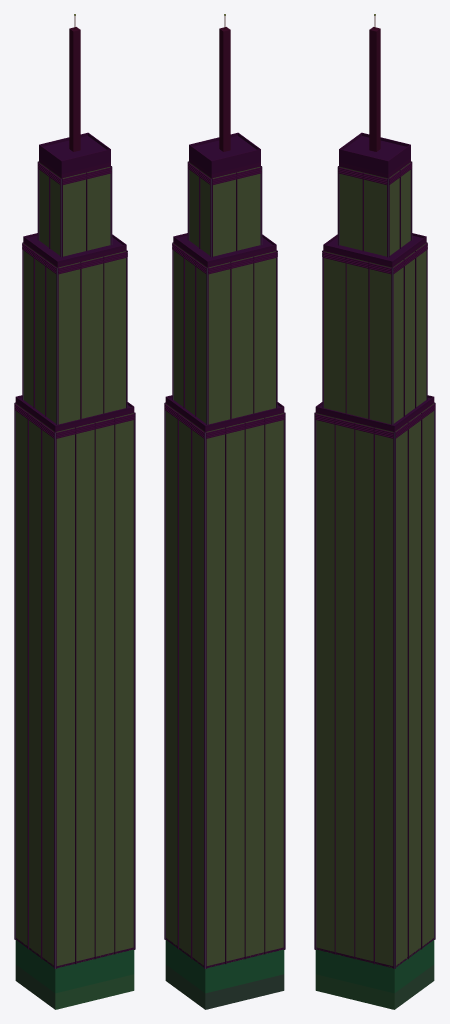
File: tower_i.glb
The picture shows the model from 3 angles, left to right: view 1: azimuth 30°, elevation 25°; view 2: azimuth 210°, elevation 25°; view 3: azimuth 330°, elevation 25°; orthographic projection.
Parts seen in each view (by area): view 1: tower_i; view 2: tower_i; view 3: tower_i.
Part boxes in pixels (box(x1,y1,x2,y2)): tower_i: box(14, 14, 135, 1009); tower_i: box(164, 14, 285, 1009); tower_i: box(314, 14, 435, 1009).
Size of the model in its own units: 24.83 by 282 by 21.83.
